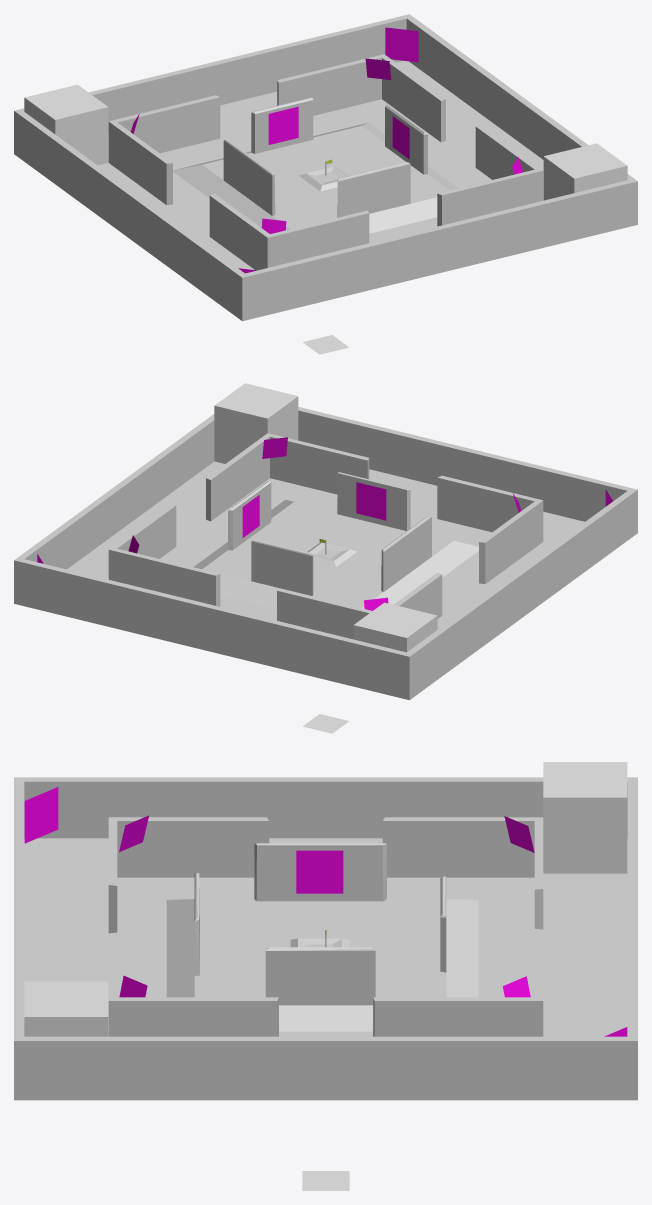
Rendered from module_0.glb.
The picture shows the model from 3 angles, top to bottom: view 1: azimuth 30°, elevation 25°; view 2: azimuth 150°, elevation 25°; view 3: azimuth 270°, elevation 25°; orthographic projection. The views are drawn at different scales.
Parts seen in each view (by area): view 1: SCENE, SO_FLAG_DELIVERY_POINT_TEAM0_INCLUDEMESH, SO_FLAG_DELIVERY_POINT_TEAM1_INCLUDEMESH, MIRROR_0, MIRROR_4, MIRROR_3, SO_KILL_PLANE_0; view 2: SCENE, SO_FLAG_DELIVERY_POINT_TEAM1_INCLUDEMESH, SO_FLAG_DELIVERY_POINT_TEAM0_INCLUDEMESH, MIRROR_5, MIRROR_3, SO_KILL_PLANE_0; view 3: SCENE, SO_FLAG_DELIVERY_POINT_TEAM0_INCLUDEMESH, SO_FLAG_DELIVERY_POINT_TEAM1_INCLUDEMESH, MIRROR_2, MIRROR_1, SO_KILL_PLANE_0, MIRROR_6.002, MIRROR_6.003.
Part boxes in pixels (<box>): SCENE: <box>14,14,637,321</box>; SO_FLAG_DELIVERY_POINT_TEAM0_INCLUDEMESH: <box>24,84,108,165</box>; SO_FLAG_DELIVERY_POINT_TEAM1_INCLUDEMESH: <box>543,143,627,200</box>; MIRROR_0: <box>385,27,418,62</box>; MIRROR_4: <box>268,106,298,144</box>; MIRROR_3: <box>392,116,409,159</box>; SO_KILL_PLANE_0: <box>302,335,349,354</box>; SCENE: <box>14,407,637,700</box>; SO_FLAG_DELIVERY_POINT_TEAM1_INCLUDEMESH: <box>214,383,298,463</box>; SO_FLAG_DELIVERY_POINT_TEAM0_INCLUDEMESH: <box>353,602,437,652</box>; MIRROR_5: <box>356,482,386,520</box>; MIRROR_3: <box>242,495,259,537</box>; SO_KILL_PLANE_0: <box>302,714,348,733</box>; SCENE: <box>14,777,637,1100</box>; SO_FLAG_DELIVERY_POINT_TEAM0_INCLUDEMESH: <box>543,762,627,873</box>; SO_FLAG_DELIVERY_POINT_TEAM1_INCLUDEMESH: <box>24,981,108,1036</box>; MIRROR_2: <box>296,850,343,893</box>; MIRROR_1: <box>24,787,58,843</box>; SO_KILL_PLANE_0: <box>302,1171,349,1190</box>; MIRROR_6.002: <box>504,816,534,852</box>; MIRROR_6.003: <box>119,815,148,852</box>.
Bounding box in the file's own units: 26.47 × 13.63 × 26.47.
